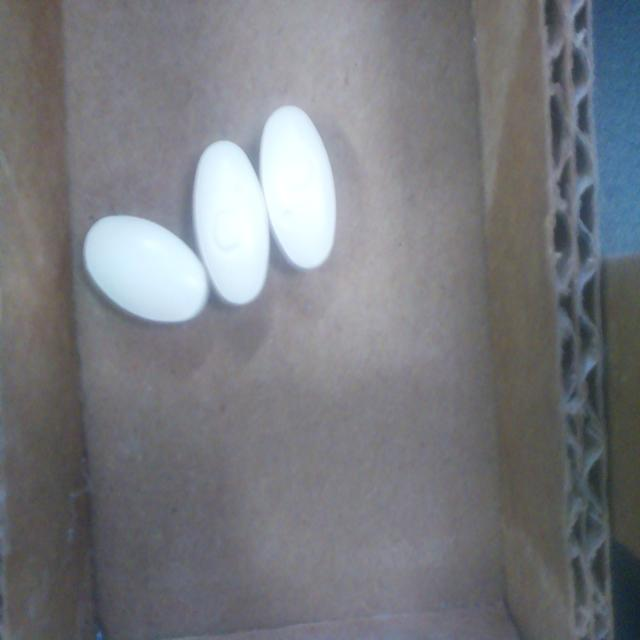pill: (83, 215, 209, 323), (259, 106, 336, 270), (193, 141, 269, 305)
